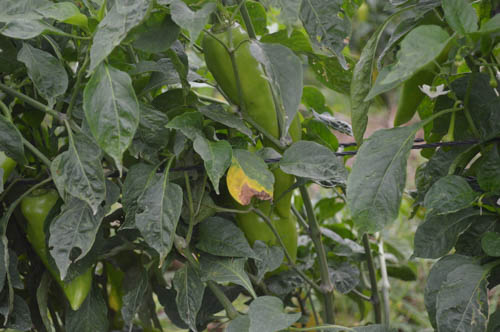ChiliPepper: (206, 30, 304, 219), (24, 193, 91, 309), (237, 185, 298, 275)
